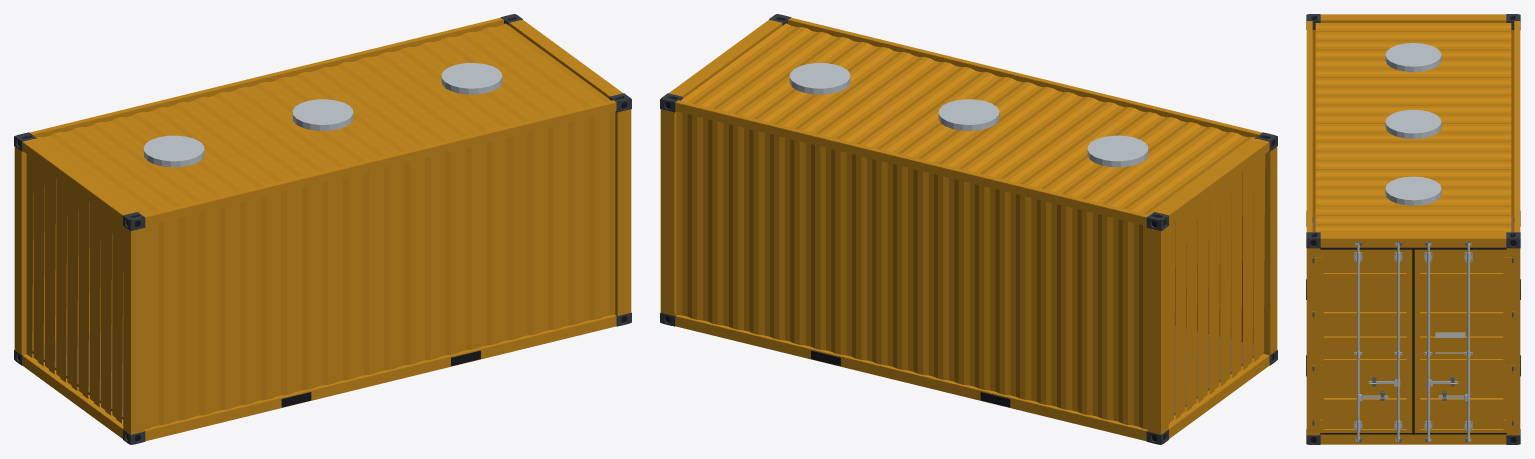
File: iso_20ft_bk_22b0.obj
3 renders of one model, left to right at view 1: azimuth 30°, elevation 25°; view 2: azimuth 150°, elevation 25°; view 3: azimuth 270°, elevation 25°, orthographic. The views are drawn at different scales.
Visible parts, largest first — view 1: 04_Corrugated_Corten_Panels, 02_Structural_Frame_Rails, 10_Bulk_Top_Loading_Hatches, 01_ISO_Corner_Castings_Hollow3D, 03_Marine_Wood_Floor, 01_ISO_Corner_Castings_Hollow3D_Cavity; view 2: 04_Corrugated_Corten_Panels, 02_Structural_Frame_Rails, 10_Bulk_Top_Loading_Hatches, 01_ISO_Corner_Castings_Hollow3D, 01_ISO_Corner_Castings_Hollow3D_Cavity, 03_Marine_Wood_Floor; view 3: 04_Corrugated_Corten_Panels, 06_Corrugated_Rear_Doors, 02_Structural_Frame_Rails, 10_Bulk_Top_Loading_Hatches, 07_Galvanized_Locking_Hardware, 05_Door_Rubber_Gaskets_Beveled, 01_ISO_Corner_Castings_Hollow3D, 03_Marine_Wood_Floor, 01_ISO_Corner_Castings_Hollow3D_Cavity, 08_CSC_Safety_Data_Plate.
Part boxes in pixels (x1,y1,x2,y2): 04_Corrugated_Corten_Panels: (26, 23, 615, 429); 02_Structural_Frame_Rails: (14, 17, 631, 441); 10_Bulk_Top_Loading_Hatches: (143, 63, 502, 167); 01_ISO_Corner_Castings_Hollow3D: (14, 14, 631, 444); 03_Marine_Wood_Floor: (32, 324, 123, 419); 01_ISO_Corner_Castings_Hollow3D_Cavity: (18, 18, 626, 441); 04_Corrugated_Corten_Panels: (676, 23, 1265, 429); 02_Structural_Frame_Rails: (660, 17, 1277, 441); 10_Bulk_Top_Loading_Hatches: (789, 63, 1148, 167); 01_ISO_Corner_Castings_Hollow3D: (660, 14, 1277, 444); 01_ISO_Corner_Castings_Hollow3D_Cavity: (665, 18, 1273, 441); 03_Marine_Wood_Floor: (1174, 326, 1253, 415); 04_Corrugated_Corten_Panels: (1315, 23, 1511, 232); 06_Corrugated_Rear_Doors: (1312, 249, 1514, 432); 02_Structural_Frame_Rails: (1306, 14, 1520, 444); 10_Bulk_Top_Loading_Hatches: (1385, 43, 1441, 205); 07_Galvanized_Locking_Hardware: (1312, 242, 1514, 442); 05_Door_Rubber_Gaskets_Beveled: (1320, 247, 1506, 434); 01_ISO_Corner_Castings_Hollow3D: (1306, 14, 1520, 444); 03_Marine_Wood_Floor: (1313, 214, 1513, 428); 01_ISO_Corner_Castings_Hollow3D_Cavity: (1306, 17, 1520, 442); 08_CSC_Safety_Data_Plate: (1435, 332, 1465, 353).
Size of the model in its own units: 6.08 by 2.65 by 2.45.
